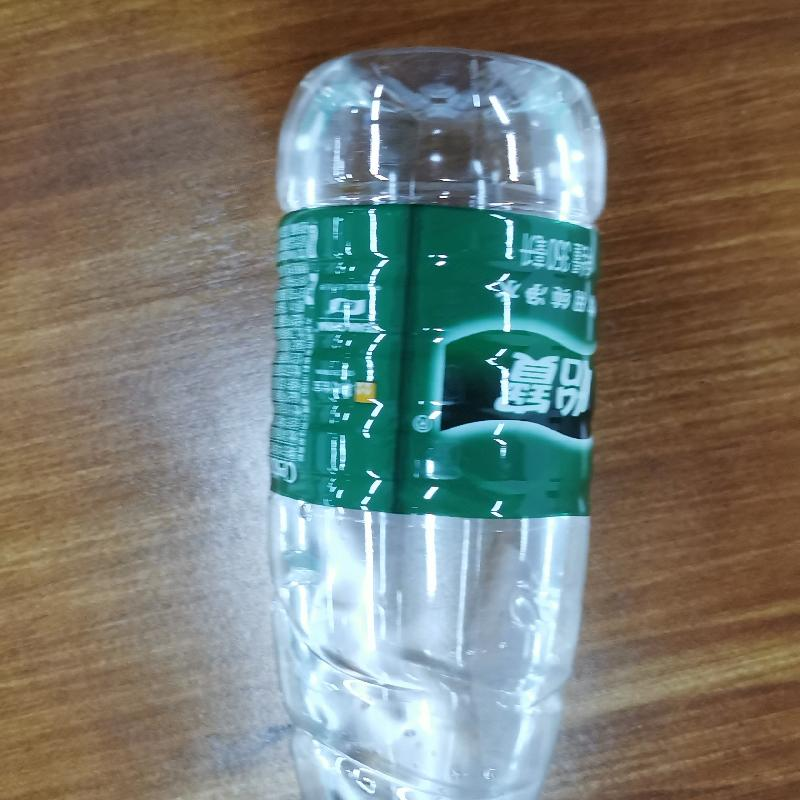bottles: (244, 45, 611, 800)
